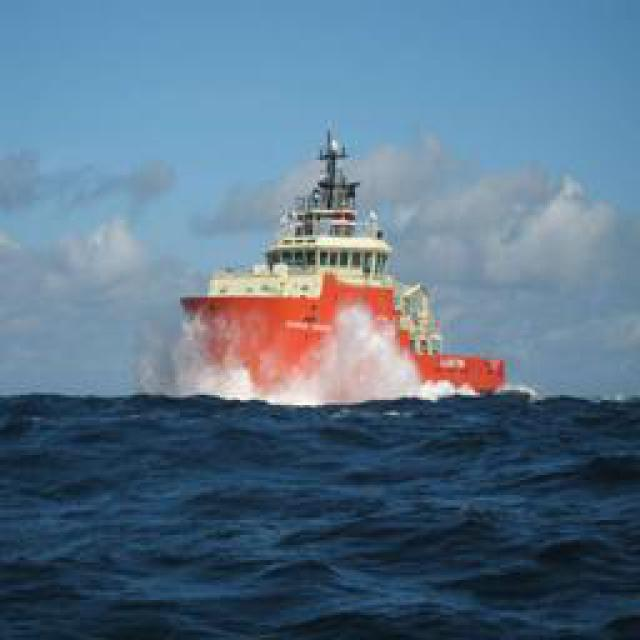Ship: (172, 121, 515, 401)
